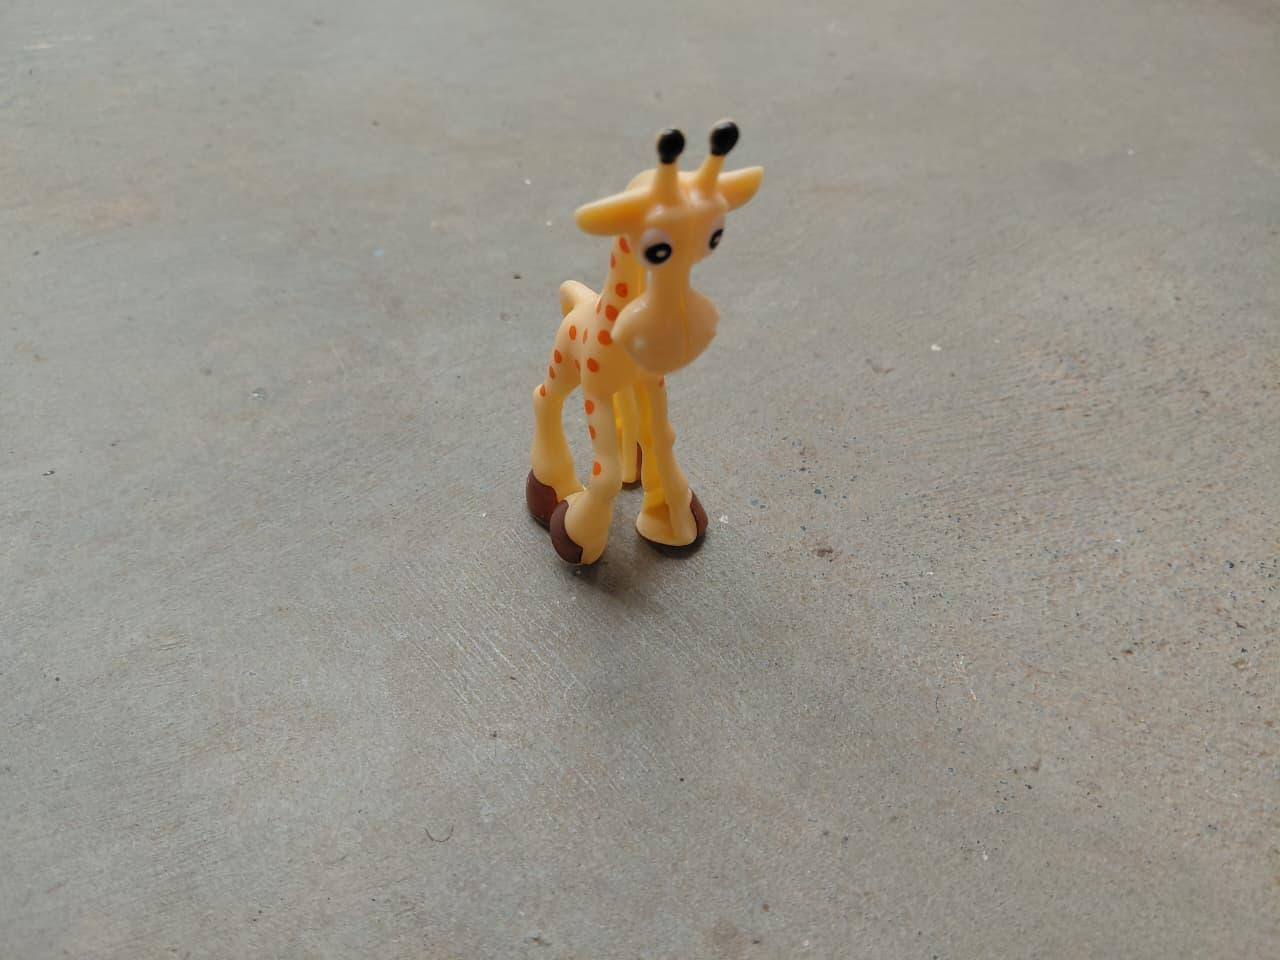giraffe: (506, 122, 774, 574)
